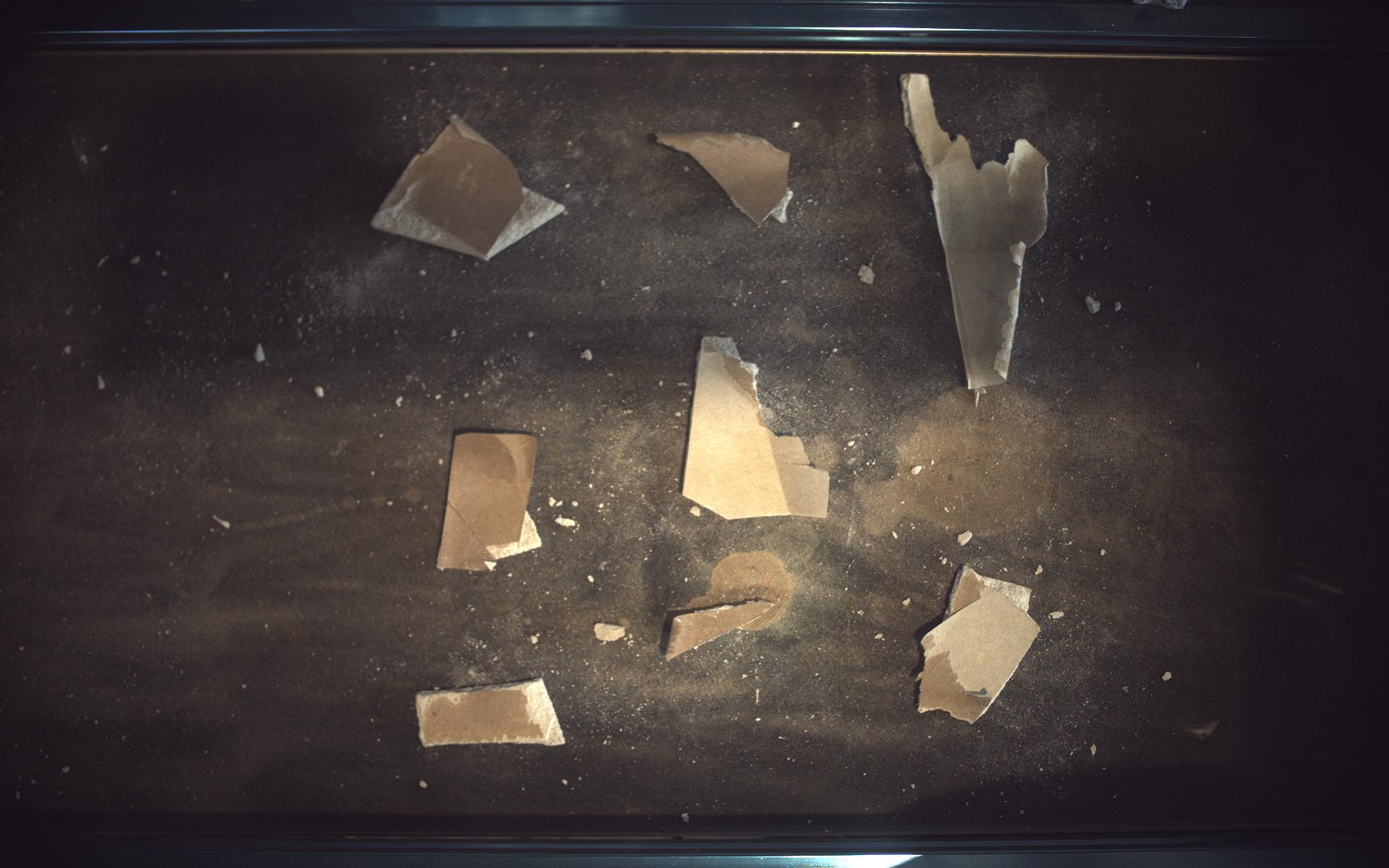gypsum_board: (902, 72, 1050, 391), (371, 114, 565, 260), (683, 336, 831, 519), (920, 566, 1042, 724), (437, 431, 541, 572), (657, 132, 794, 224), (416, 679, 566, 748), (666, 601, 776, 660)
